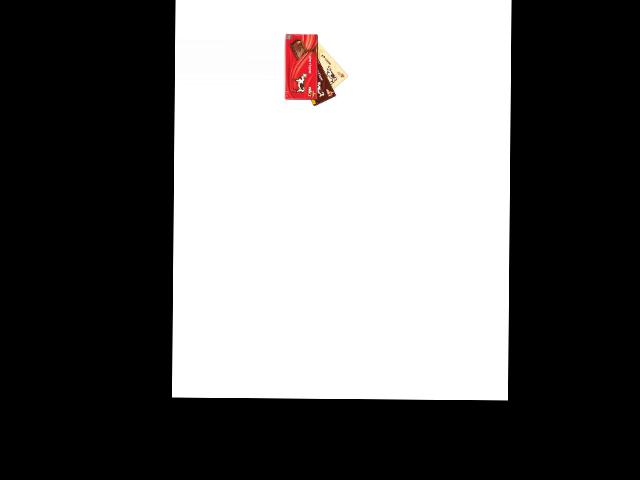chocolate: (311, 36, 349, 97)
